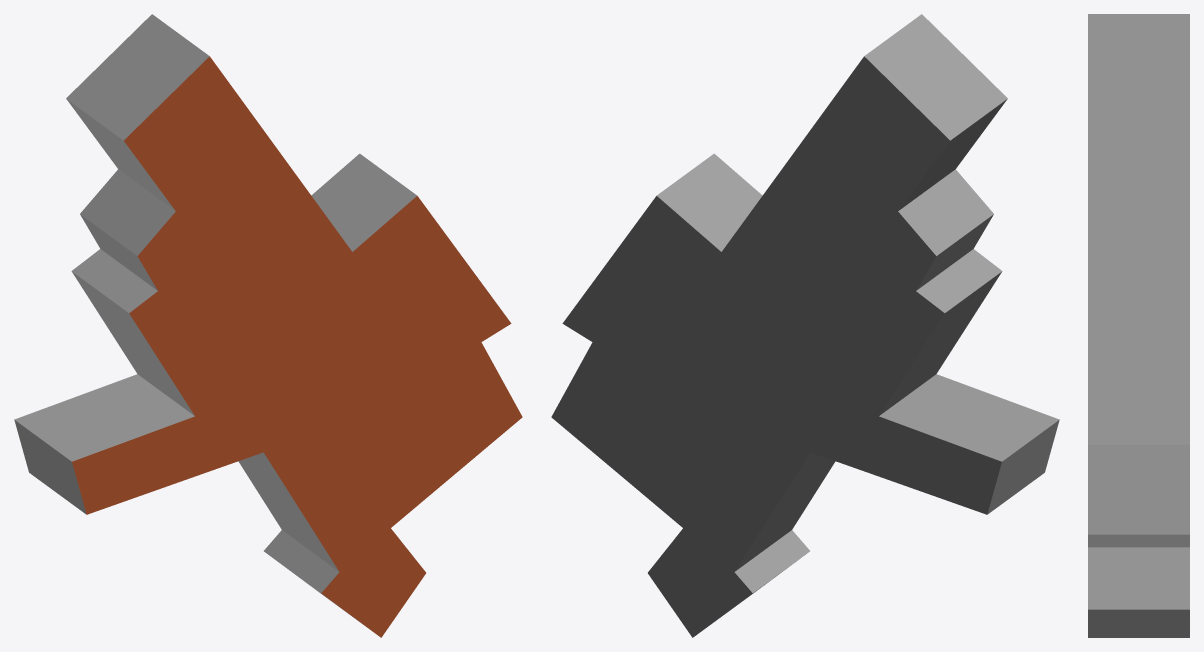
The model's file is construction_2448_assumed_A_Casa_h6m.obj.
3 views of the same model, side by side, from view 1: azimuth 30°, elevation 25°; view 2: azimuth 150°, elevation 25°; view 3: azimuth 270°, elevation 25° (orthographic). The views are drawn at different scales.
Parts seen in each view (by area): view 1: construction_2448_assumed_A_Casa; view 2: construction_2448_assumed_A_Casa; view 3: construction_2448_assumed_A_Casa.
Boxes of the visible parts, bbox=[...] form: construction_2448_assumed_A_Casa: bbox=[14, 14, 522, 637]; construction_2448_assumed_A_Casa: bbox=[551, 14, 1059, 637]; construction_2448_assumed_A_Casa: bbox=[1088, 14, 1189, 637].
Size of the model in its own units: 27.07 by 35.78 by 6.
